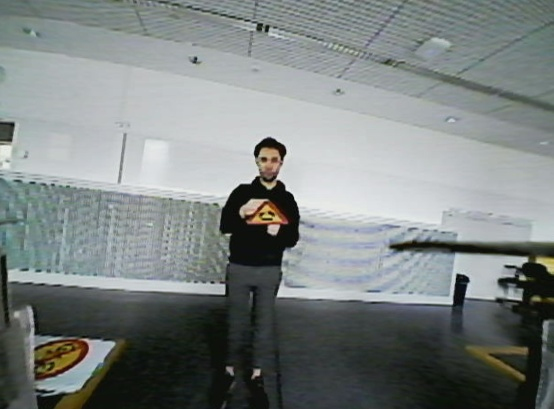roundabout_warning: (242, 198, 294, 228)
